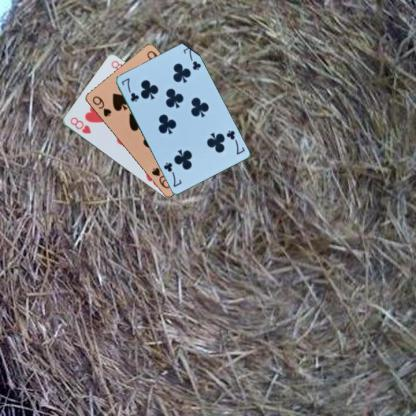7c: (118, 75, 140, 103), (224, 128, 246, 155)
8h: (67, 114, 92, 136)
9s: (90, 93, 112, 118)
